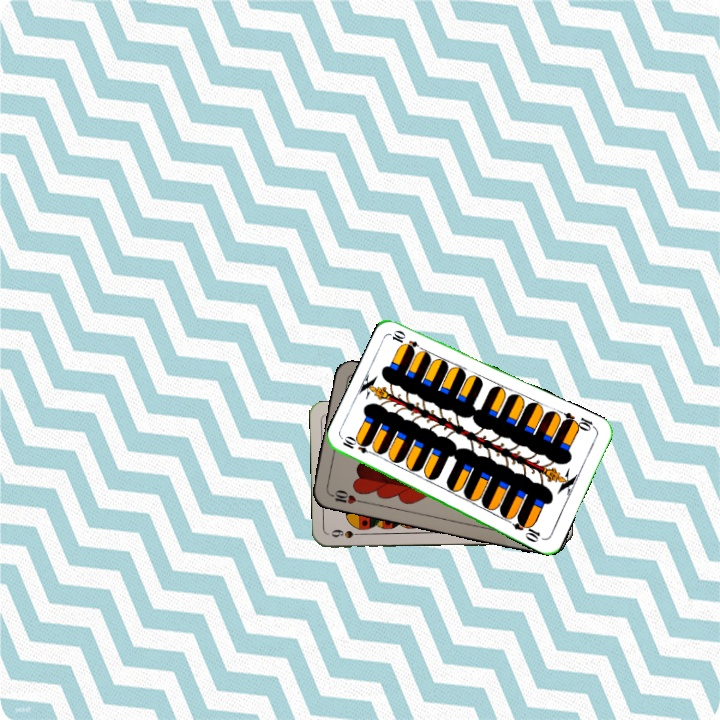E10: (559, 408, 598, 434), (338, 434, 378, 458)
H10: (325, 486, 365, 507)
S9: (327, 526, 367, 541)
